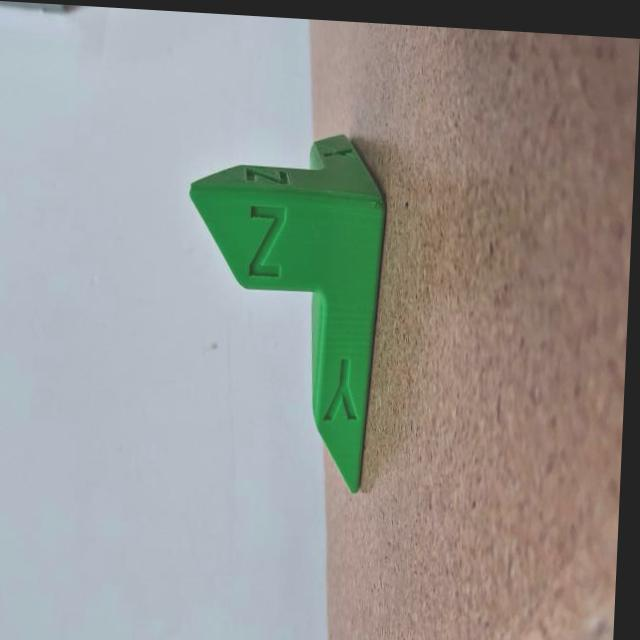eje: (173, 114, 394, 504)
